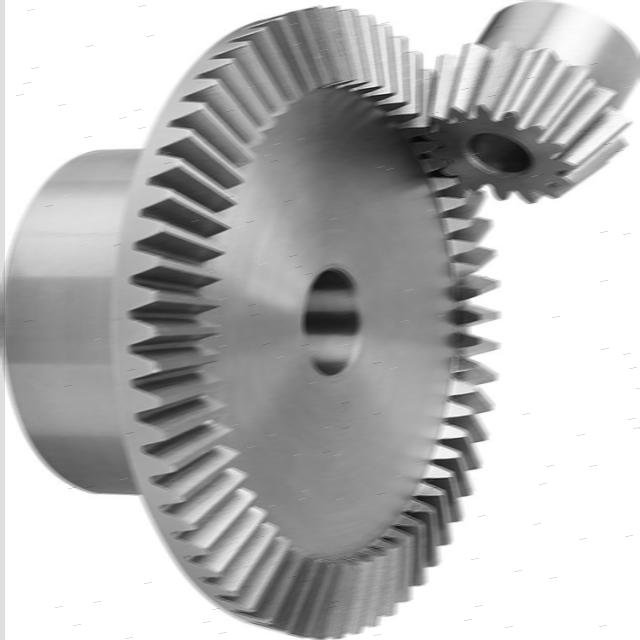Gear: (1, 2, 504, 640), (417, 0, 640, 209)
